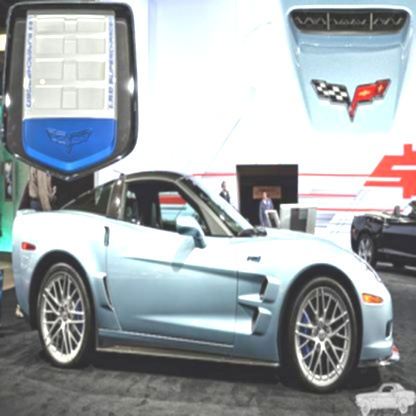Vehicle: (11, 166, 399, 402)
